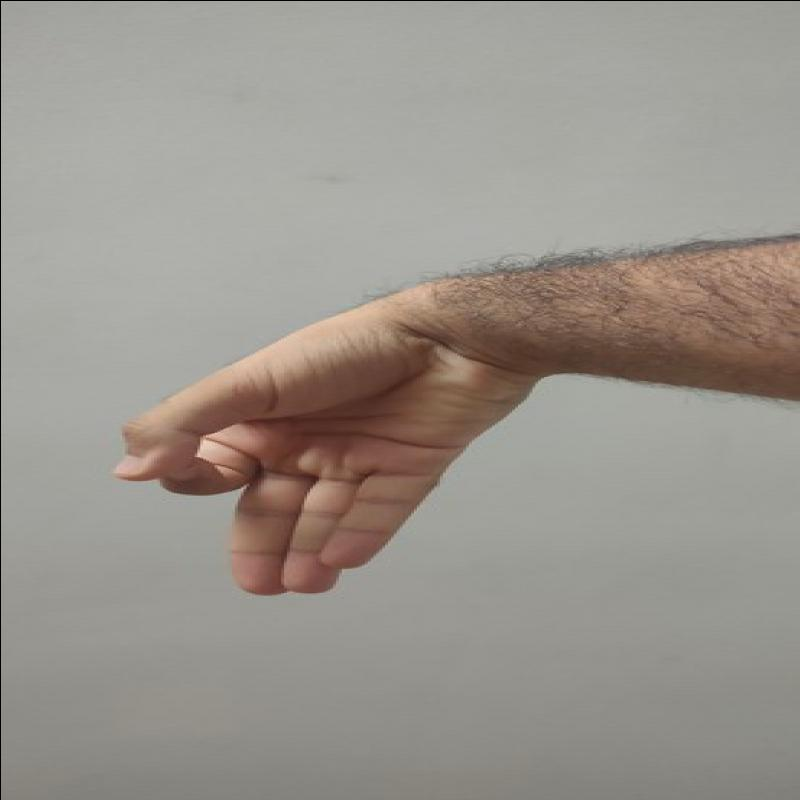Mudraakhyam: (91, 285, 519, 613)
